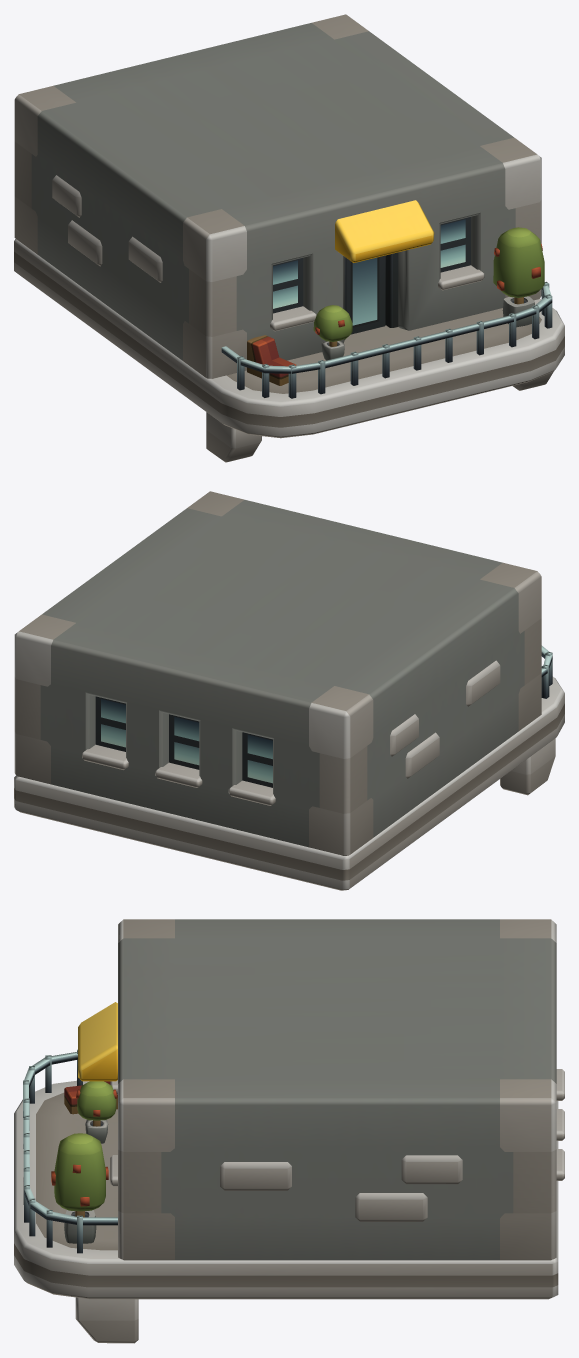
Rendered from appartment_type1_x4_balcony_grey.fbx.
3 views of the same model, one above another, from view 1: azimuth 30°, elevation 25°; view 2: azimuth 150°, elevation 25°; view 3: azimuth 270°, elevation 25° (orthographic). The views are drawn at different scales.
Parts seen in each view (by area): view 1: appartment_type1_x4_balcony_grey, door_appartment_type1_x4_balcony_grey; view 2: appartment_type1_x4_balcony_grey; view 3: appartment_type1_x4_balcony_grey.
Part boxes in pixels (x1,y1,x2,y2): appartment_type1_x4_balcony_grey: (14,14,564,462); door_appartment_type1_x4_balcony_grey: (346,255,385,334); appartment_type1_x4_balcony_grey: (14,491,564,890); appartment_type1_x4_balcony_grey: (14,919,564,1343).
Size of the model in its own units: 819 by 505 by 1017.
